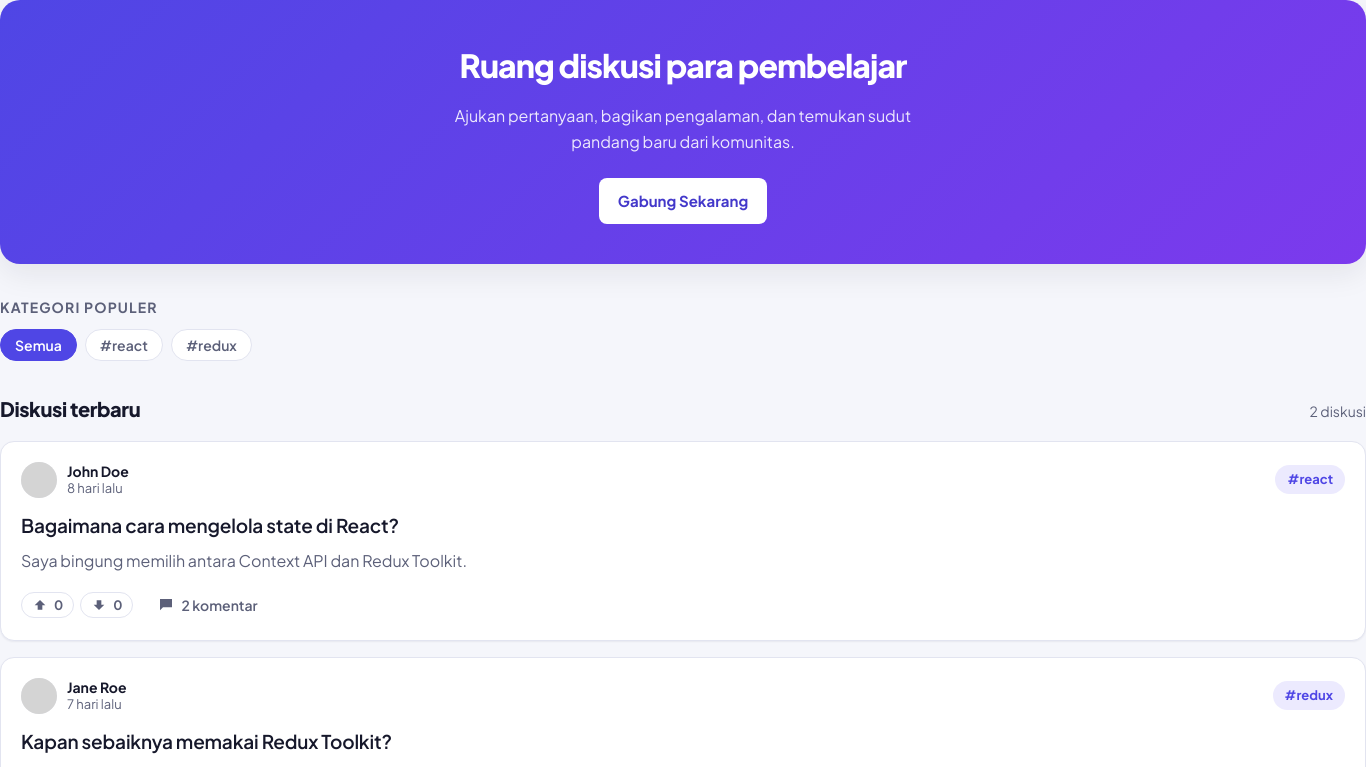
Test: HomePage integration › harus menampilkan seluruh thread kembali ketika tombol "Semua" ditekan
Click the button "#react": x=124, y=345 85,329 -> 163,361
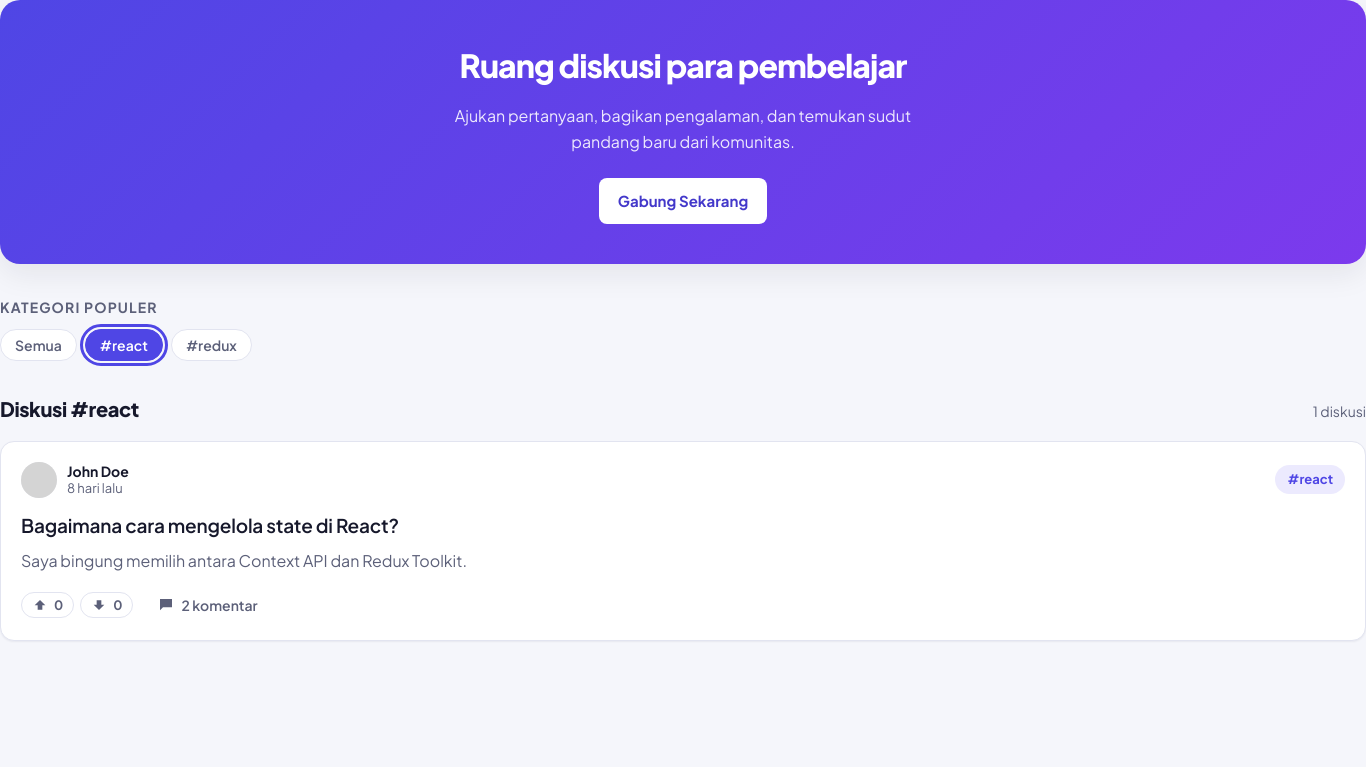
Click the button "Semua": x=38, y=345 0,329 -> 77,361
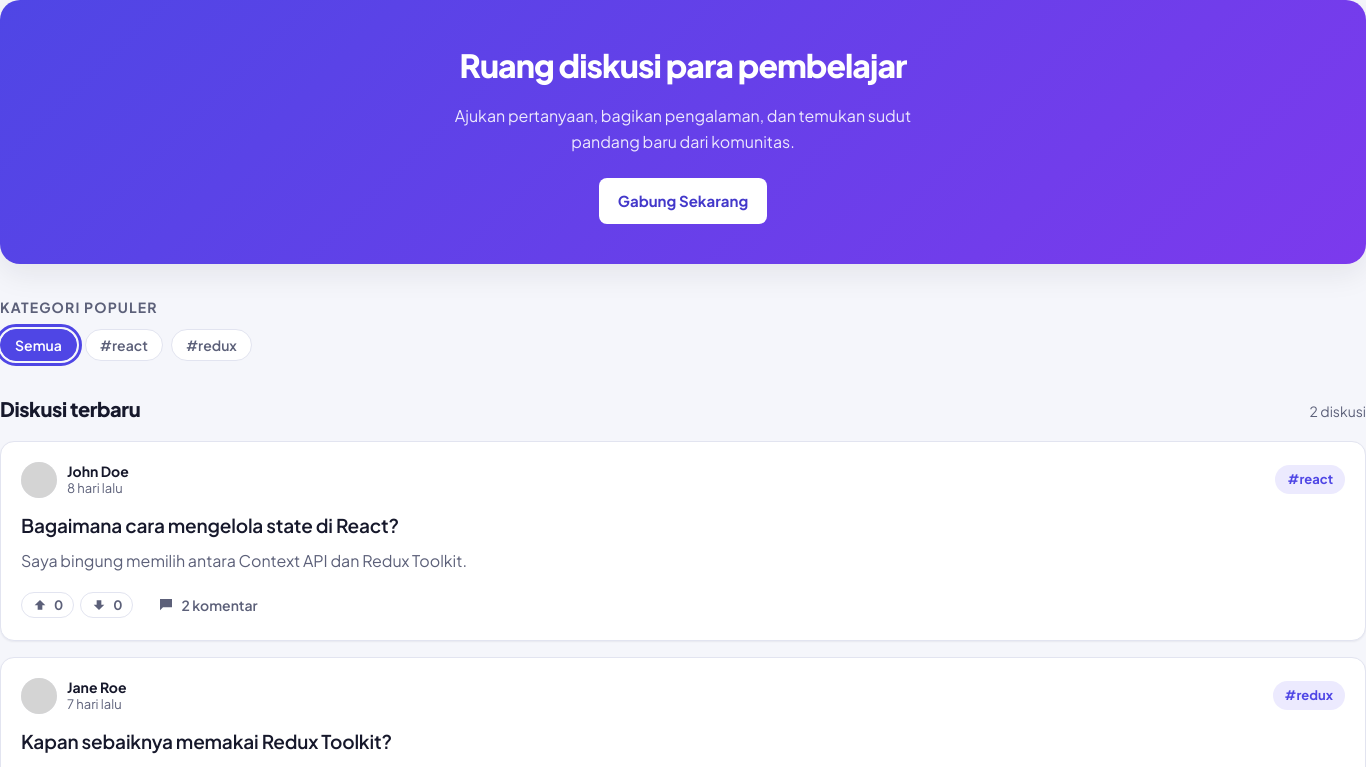
Expected: the link "Kapan sebaiknya memakai Redux Toolkit?" is shown, 21,729 -> 392,753
Expected: the text "2 diskusi" is shown, 1310,400 -> 1365,422
